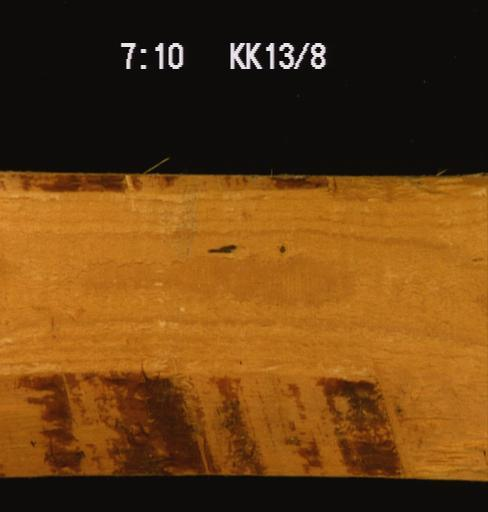small_knot: (273, 239, 288, 256)
wave: (0, 368, 487, 480), (3, 171, 350, 204)
